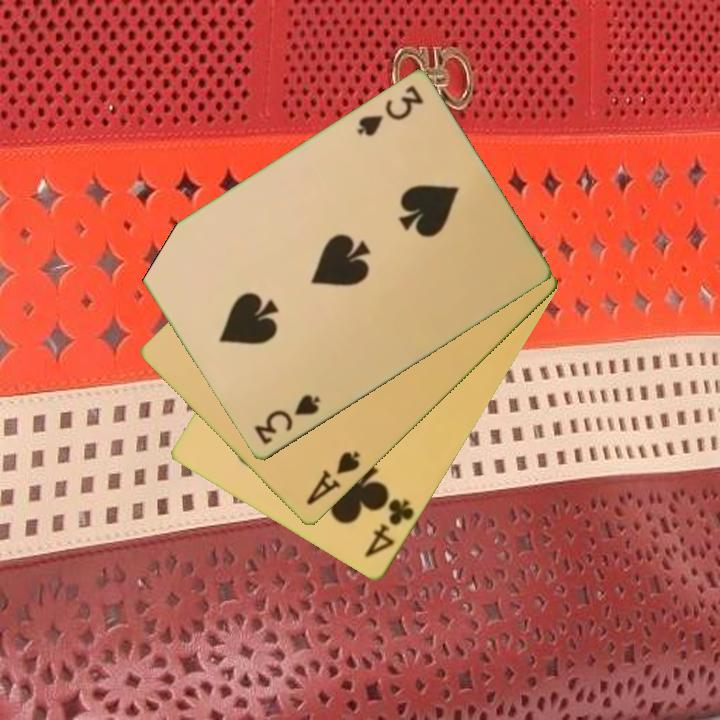3s: (353, 82, 427, 140), (250, 391, 323, 448)
4c: (361, 496, 418, 561)
As: (302, 448, 363, 509)
